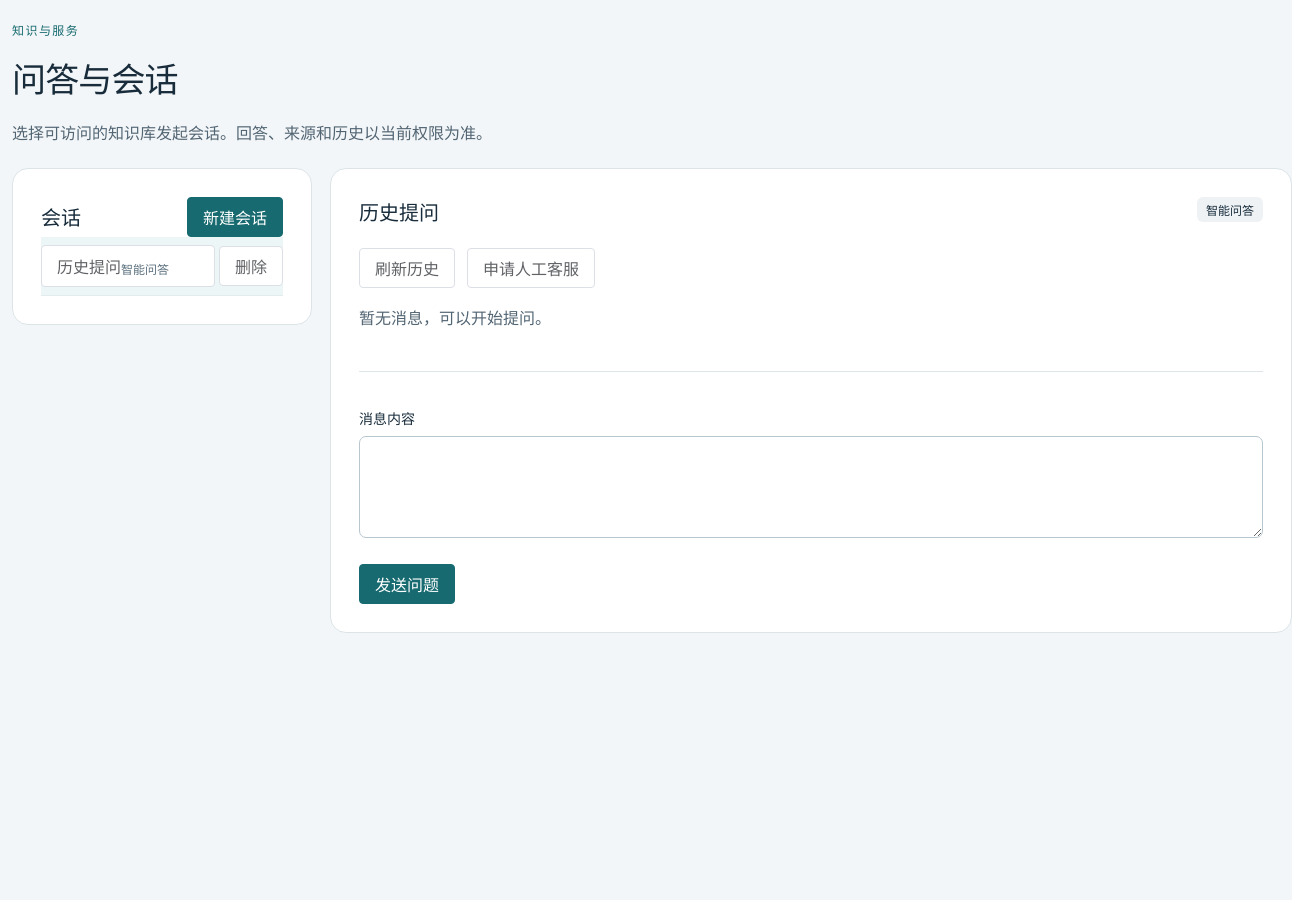
Test: requests human support once while an answer is streaming and switches to queued text
The image size is (1292, 900).
In the text box named "消息内容": (811,487) [359, 436, 1263, 538], type "正在生成"
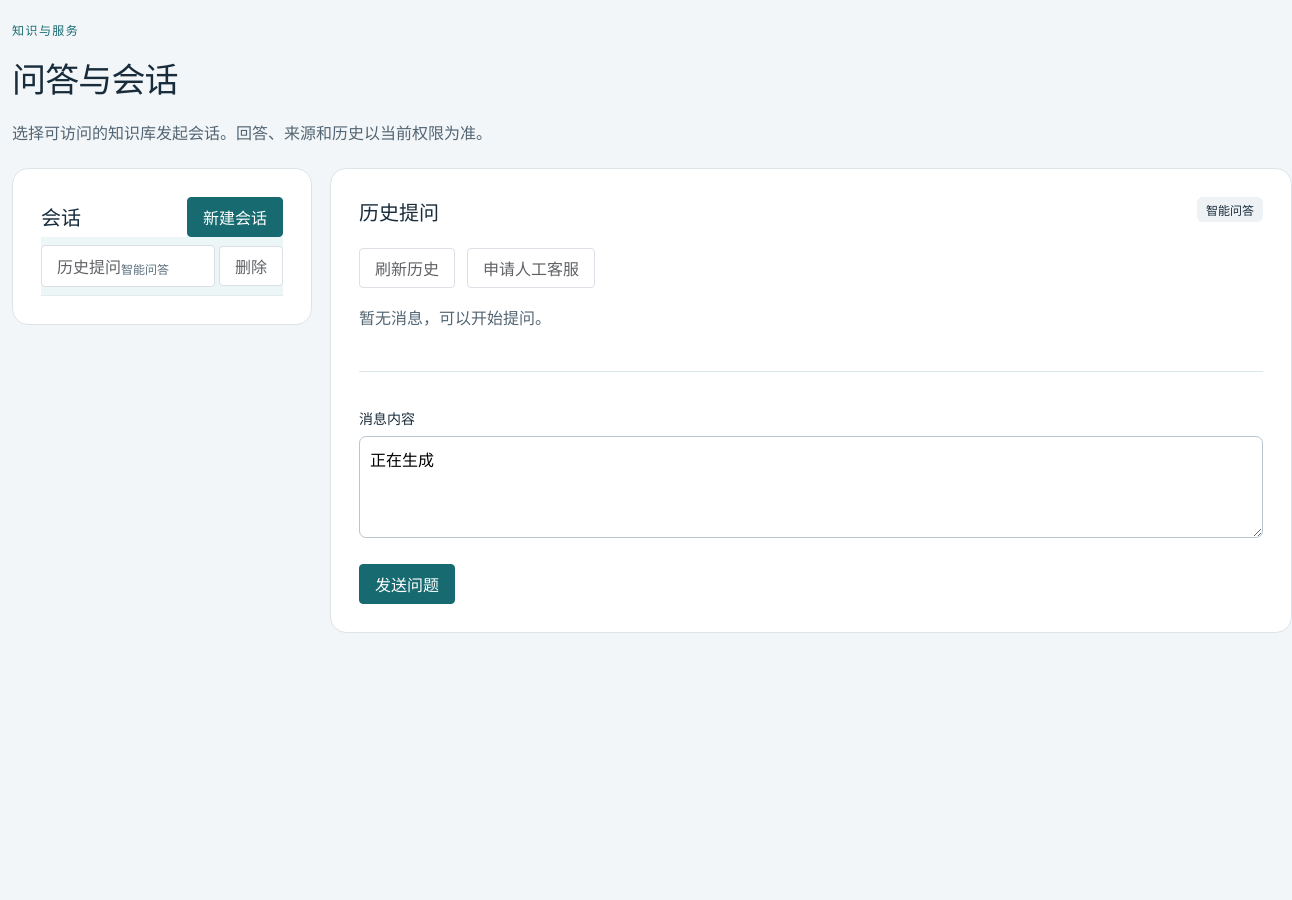
Submit the form with class "composer", box [359, 371, 1263, 604]
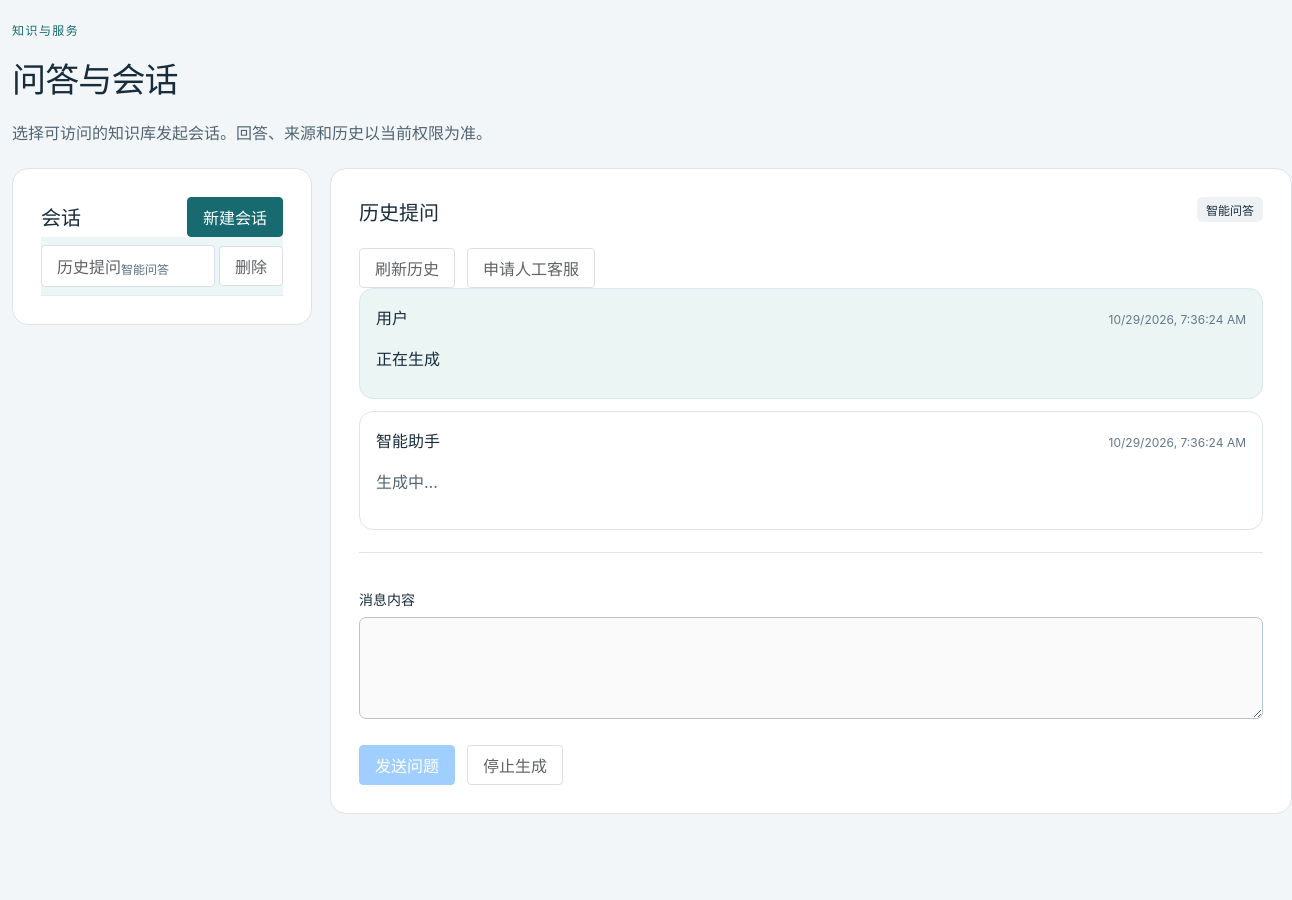
Click the button "申请人工客服": (531,268) [467, 248, 595, 288]
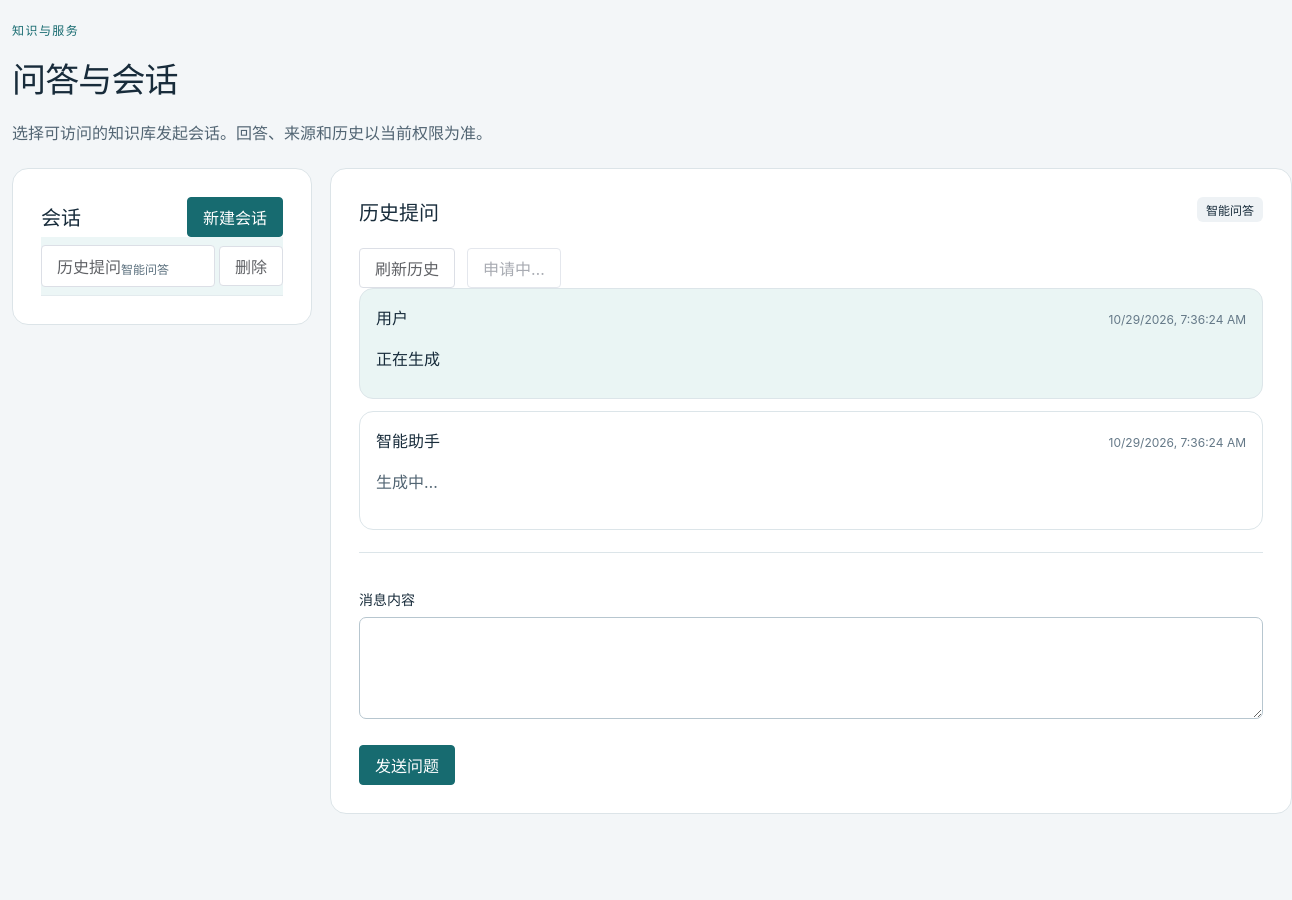
Click the button "申请中…": (514,268) [467, 248, 561, 288]
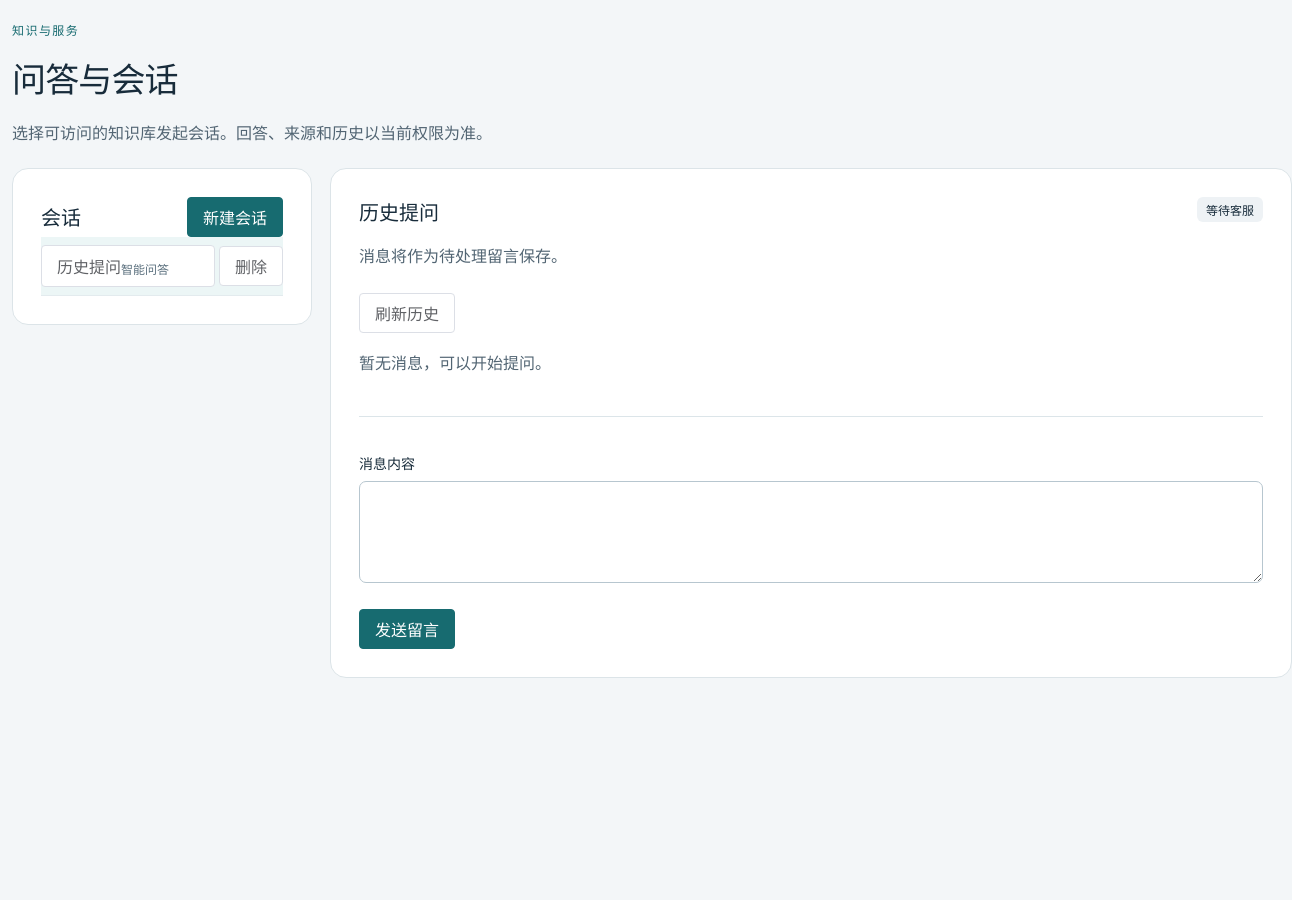
Result: the text "等待客服" is shown at [1197, 197, 1263, 222]
